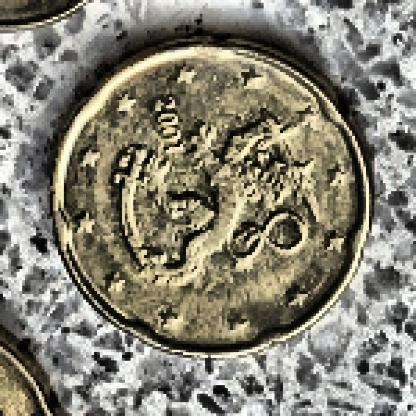coin: (48, 42, 378, 364)
